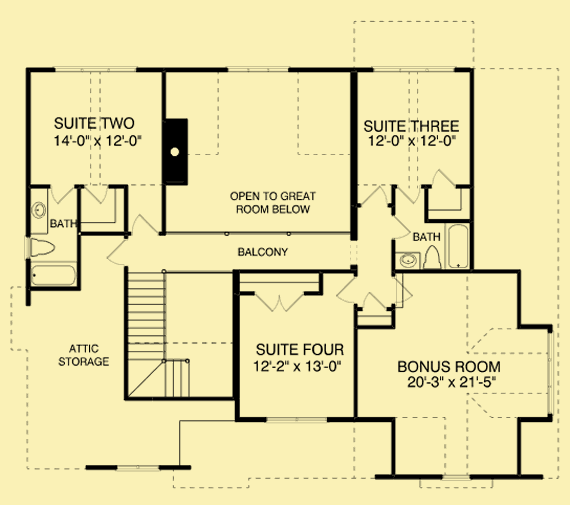bathroom with tub, small and large sinks: (387, 184, 473, 272)
these are staircase to balcony: (122, 267, 238, 403)
this bathroom has a tub, small and large sink: (24, 186, 83, 291)
this portion is open to below: (163, 67, 352, 233)
